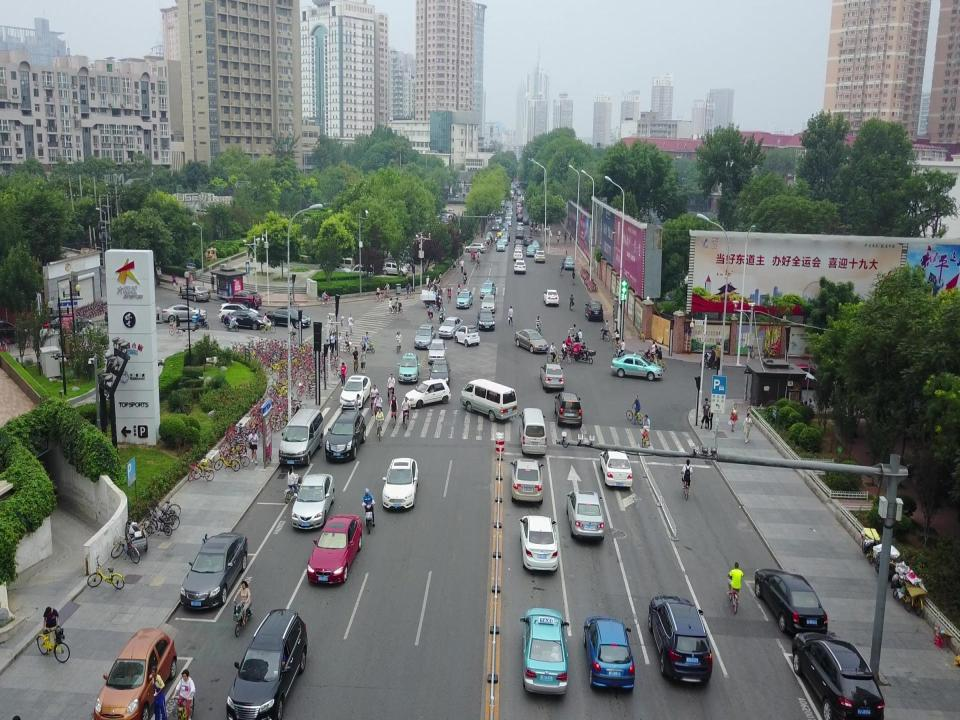car: (226, 608, 307, 720), (792, 632, 884, 720), (93, 627, 177, 720), (648, 595, 712, 685), (180, 532, 248, 611), (754, 568, 828, 638), (520, 608, 570, 695), (306, 514, 361, 585), (583, 616, 635, 691), (291, 474, 335, 530), (518, 514, 558, 570), (324, 410, 366, 461), (566, 491, 605, 541), (382, 457, 418, 510), (509, 459, 544, 503), (610, 352, 662, 381), (404, 378, 450, 408), (599, 450, 633, 488), (784, 363, 830, 389), (43, 313, 94, 335), (340, 375, 372, 410), (223, 308, 271, 330), (554, 391, 582, 428), (265, 306, 311, 328), (162, 303, 208, 324), (218, 302, 260, 323), (514, 329, 548, 353), (226, 289, 262, 310), (0, 320, 29, 345), (540, 363, 564, 391), (429, 359, 451, 389), (398, 352, 420, 382), (454, 324, 480, 346), (414, 323, 436, 349), (438, 317, 464, 338), (180, 285, 210, 302), (427, 339, 447, 364), (325, 262, 351, 279), (476, 309, 496, 331), (380, 262, 408, 277), (586, 300, 604, 322), (480, 280, 496, 299), (481, 294, 496, 314), (543, 289, 559, 306), (464, 242, 488, 253), (562, 255, 574, 271), (514, 259, 526, 274), (533, 250, 545, 263), (513, 243, 523, 256), (530, 240, 540, 253), (514, 228, 524, 240), (513, 249, 523, 261), (525, 245, 535, 257), (501, 231, 511, 242), (496, 240, 506, 251), (524, 235, 533, 246), (514, 239, 523, 249), (485, 231, 493, 242), (492, 222, 500, 231), (500, 236, 508, 245), (502, 226, 510, 234), (515, 214, 523, 222), (516, 223, 524, 231), (494, 217, 502, 224), (504, 219, 512, 226), (502, 222, 509, 230), (448, 193, 459, 198), (522, 217, 529, 224)
van: (278, 408, 324, 467), (460, 379, 517, 421), (519, 408, 547, 456), (349, 263, 375, 279), (331, 256, 355, 273)
